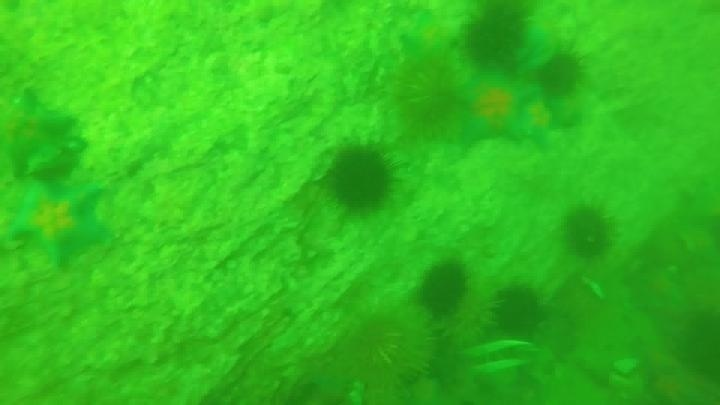echinus: (343, 307, 438, 390), (390, 56, 463, 136), (325, 141, 400, 216), (460, 3, 532, 70), (673, 306, 719, 383), (415, 258, 471, 319), (489, 282, 547, 340), (560, 203, 616, 260), (535, 49, 586, 99)
starfish: (5, 176, 113, 271), (445, 67, 539, 150), (1, 87, 82, 181), (398, 13, 462, 72), (508, 93, 570, 150)
